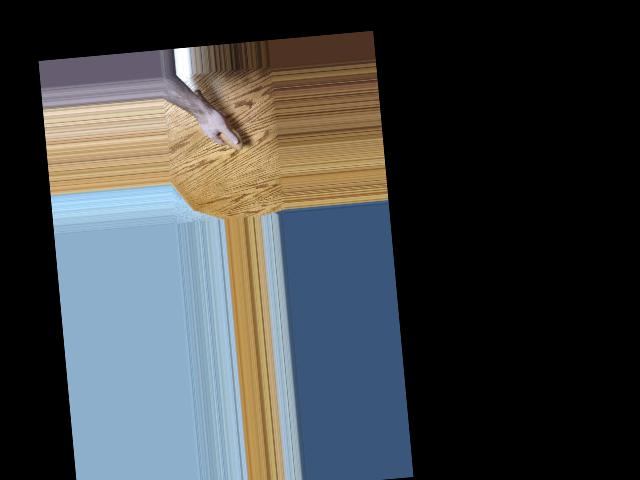sweet_potato: (194, 84, 244, 154)
